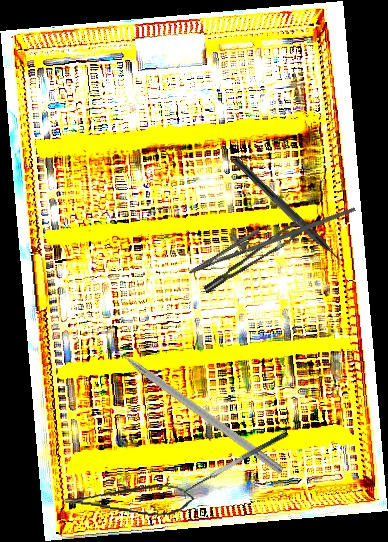Chopper: (102, 329, 292, 475), (225, 157, 350, 275)
Micro Scissor: (64, 473, 195, 521)
Needle Holder: (181, 176, 357, 294)
Spatula Surgical: (179, 430, 294, 502)
Tissue Forceps: (195, 218, 313, 294)
